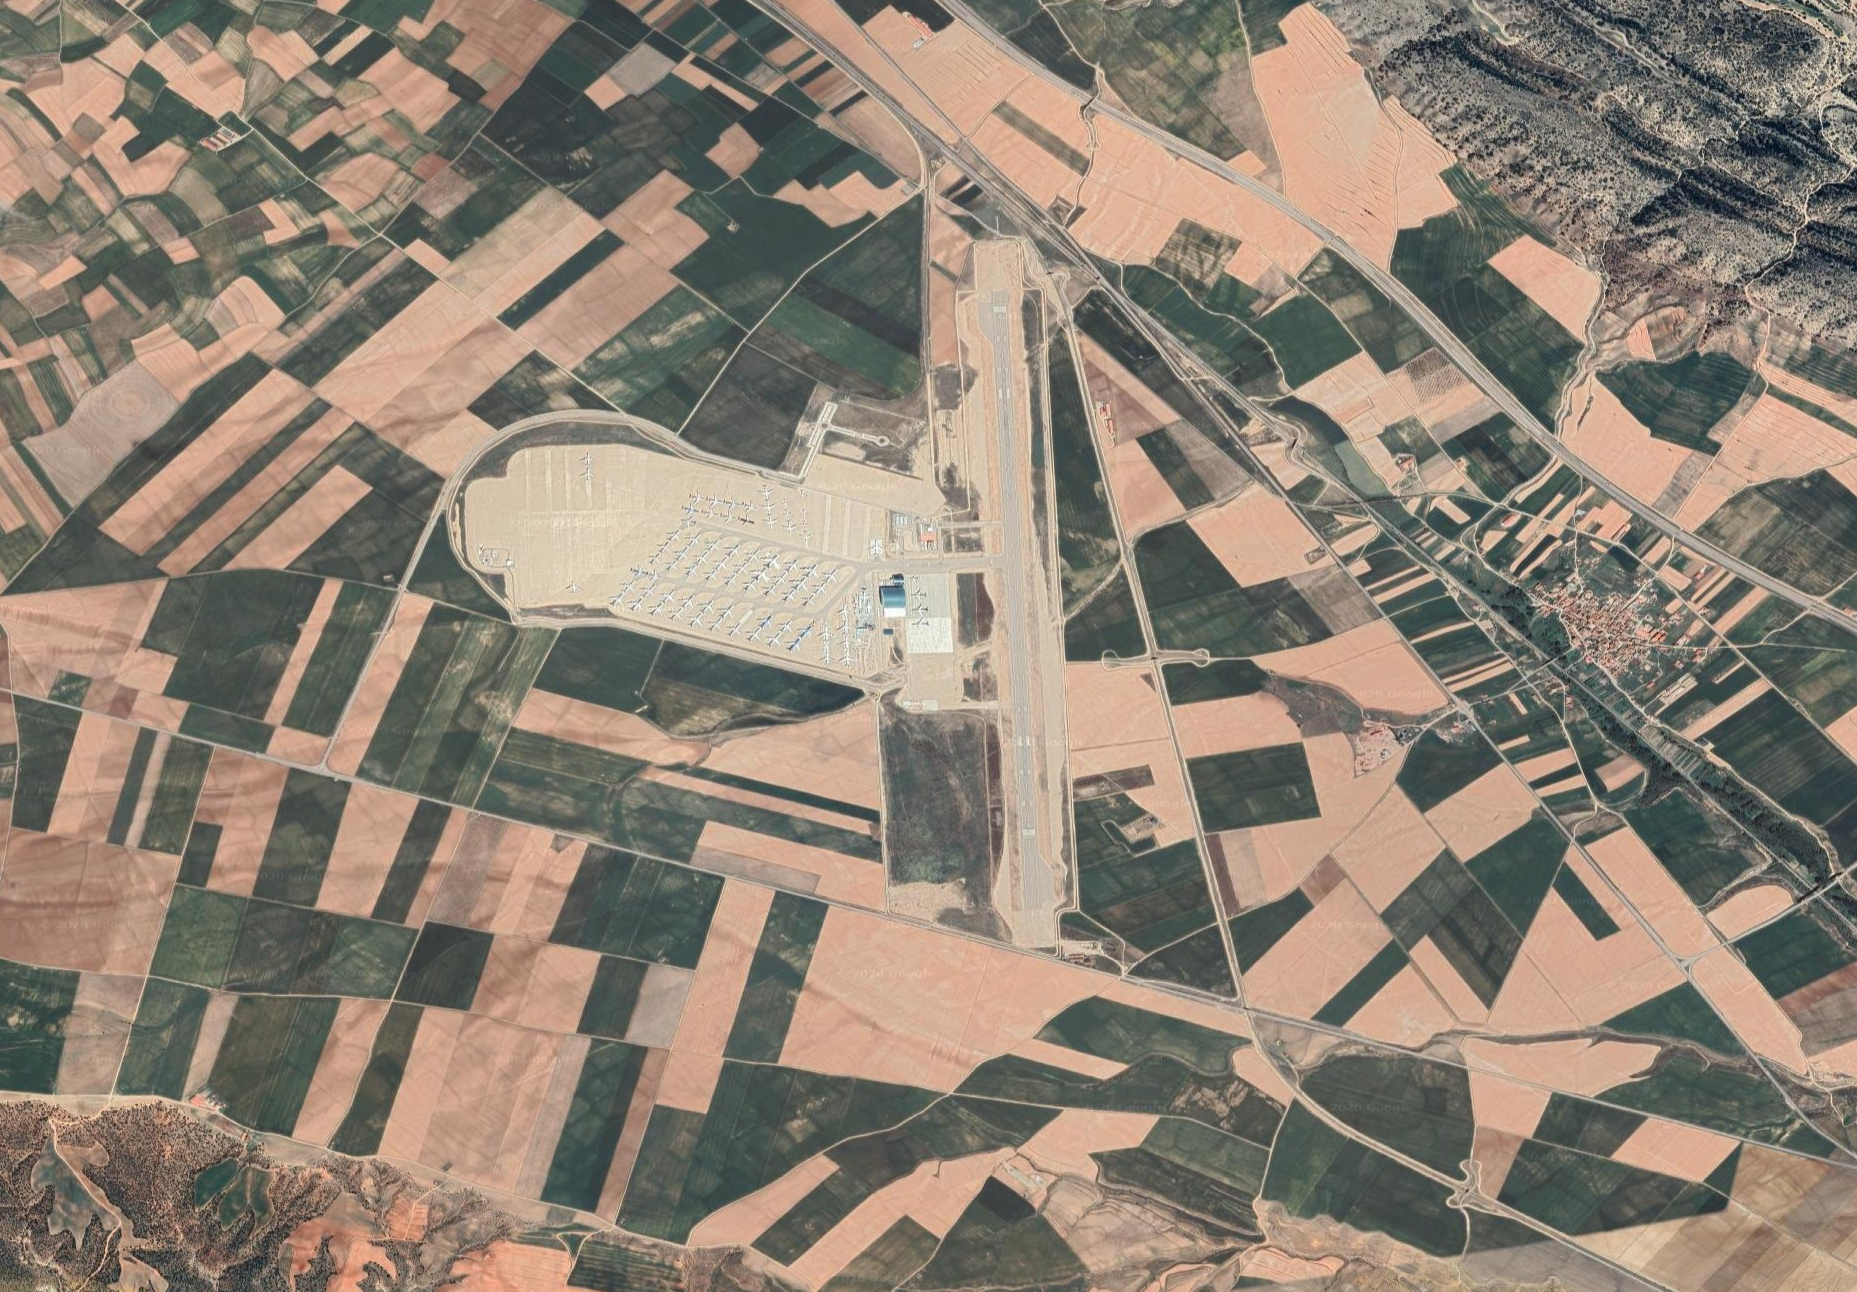airport: (459, 281, 1051, 914)
motorway: (1499, 1207, 1650, 1291), (1462, 358, 1563, 458), (1668, 529, 1794, 609), (1187, 805, 1246, 968), (1144, 643, 1204, 805), (1102, 481, 1161, 643), (1058, 315, 1118, 475), (1370, 276, 1476, 358), (902, 118, 998, 207), (1053, 76, 1161, 152), (1161, 135, 1270, 210), (1271, 199, 1380, 274), (940, 1, 1048, 75), (1386, 1145, 1499, 1214), (1563, 451, 1664, 529), (1287, 1082, 1384, 1161), (1225, 968, 1293, 1079), (835, 49, 912, 130), (1053, 238, 1135, 310), (981, 182, 1065, 245), (749, 1, 840, 54), (1799, 597, 1857, 662)
